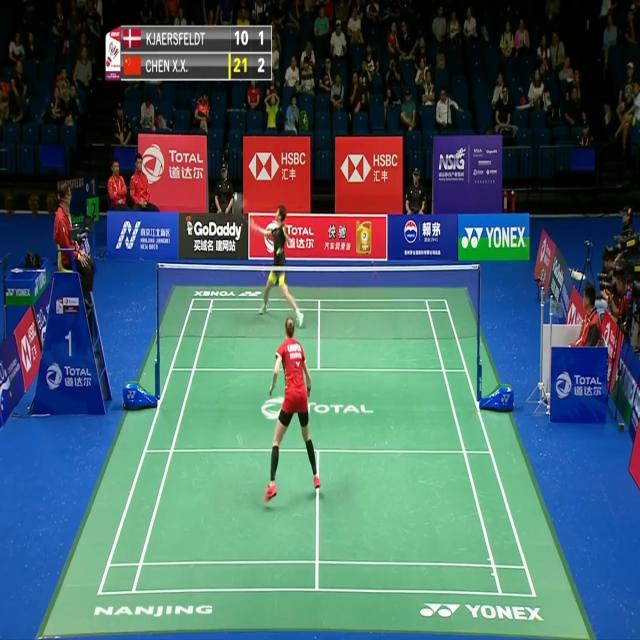Player1: (260, 314, 324, 508)
Player2: (248, 198, 306, 332)
